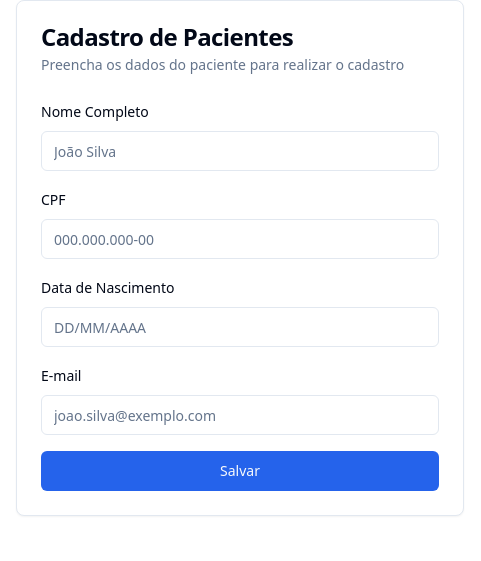
Test: PatientForm › deve validar CPF inválido
This screenshot has width=481, height=561.
In the field labelled "CPF": (240, 239) [41,219,439,259], type "123.456.789-00"
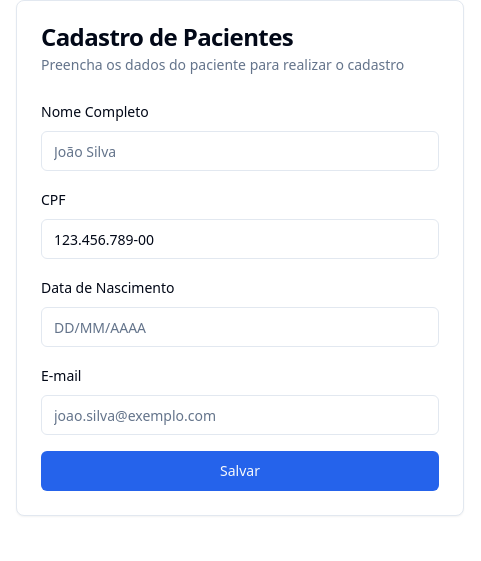
Leave the field labelled "CPF", box [41,219,439,259]
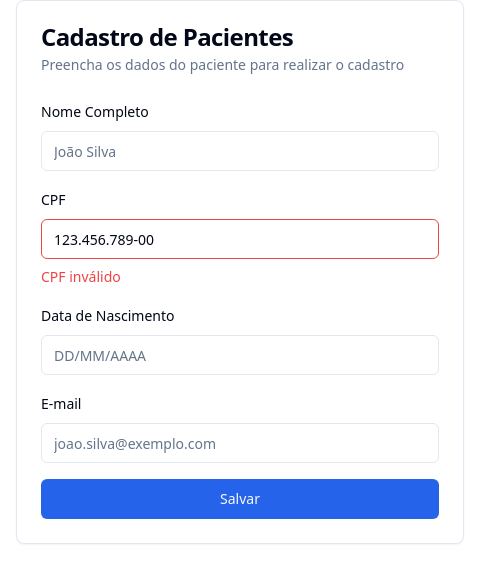
Result: the text "CPF inválido" is shown at [41,267,121,286]
